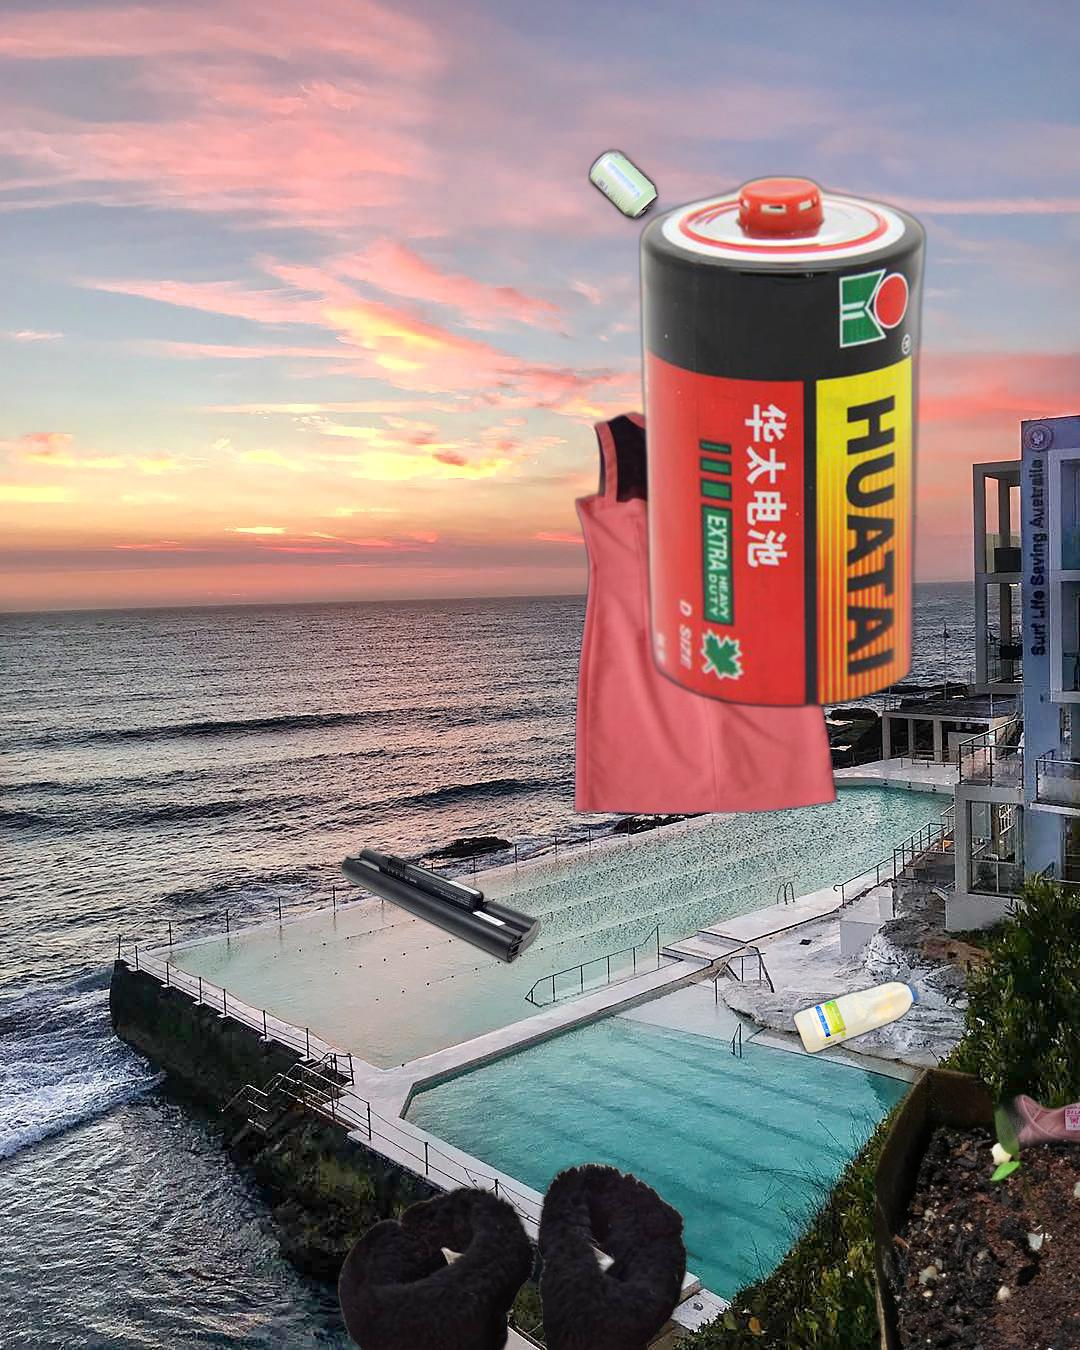battery: (408, 170, 1080, 885), (338, 845, 543, 966)
clothes: (570, 401, 841, 819), (771, 1086, 1080, 1350)
metal-cans: (563, 145, 737, 551)
plastic-bottles: (788, 975, 924, 1059)
shoes: (314, 1157, 703, 1350)
trashbox-cardboard: (875, 955, 1080, 1350)
